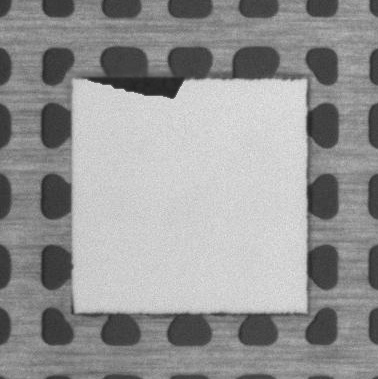DIE_BROKEN: (82, 71, 186, 100)
